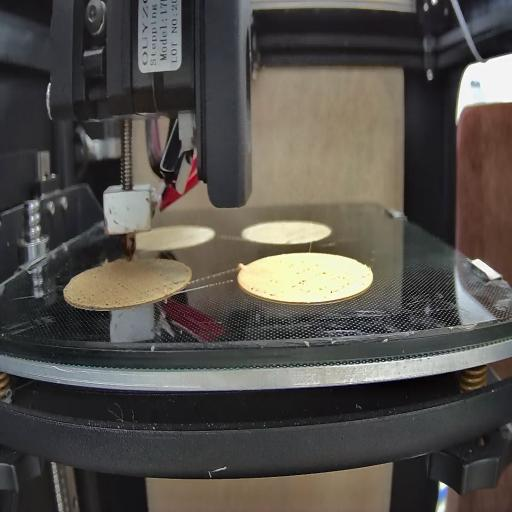under_extrusion: (290, 260, 356, 298), (73, 284, 110, 310), (158, 272, 188, 295), (246, 282, 276, 302)
